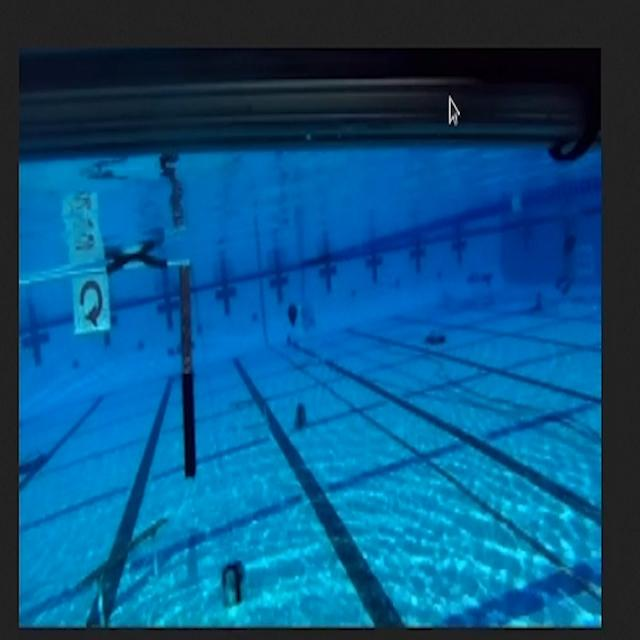Gate: (26, 254, 213, 478)
